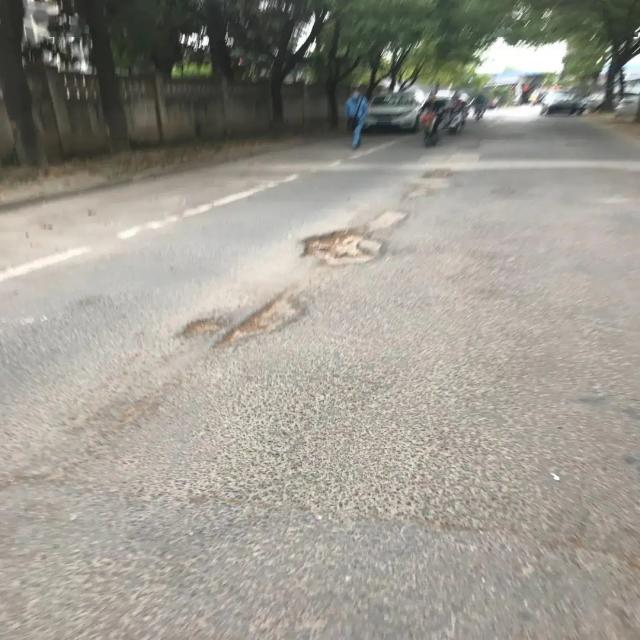Pothole: (175, 284, 315, 352), (298, 209, 413, 268), (399, 169, 463, 191)
